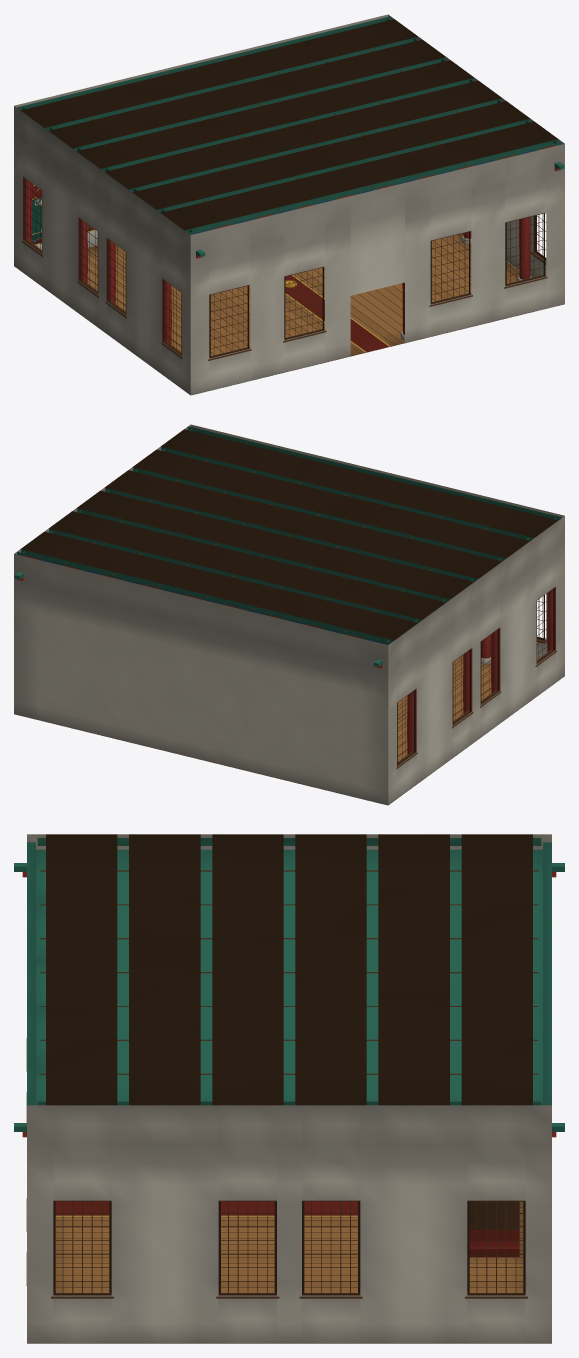
The model's file is dharma.glb.
3 views of the same model, one above another, from view 1: azimuth 30°, elevation 25°; view 2: azimuth 150°, elevation 25°; view 3: azimuth 270°, elevation 25° (orthographic). The views are drawn at different scales.
Parts seen in each view (by area): view 1: structure, ceiling, floor, mural; view 2: structure, ceiling, floor; view 3: ceiling, structure, floor.
Part boxes in pixels (x1,y1,x2,y2): structure: (14, 14, 564, 395); ceiling: (17, 16, 561, 234); floor: (14, 233, 564, 395); mural: (31, 183, 95, 244); structure: (14, 424, 564, 805); ceiling: (17, 426, 561, 644); floor: (14, 655, 564, 805); ceiling: (36, 834, 542, 1105); structure: (14, 834, 564, 1343); floor: (27, 1201, 551, 1343).
Bounding box in the file's own units: 22.02 × 9.01 × 18.9.
